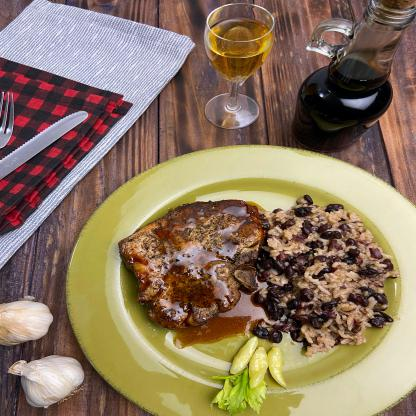Carne: (118, 199, 260, 333)
